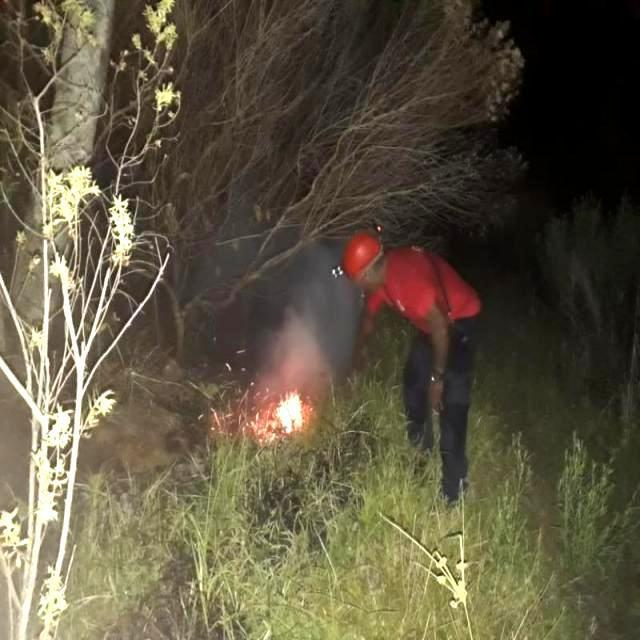Fire: (262, 384, 318, 444)
Smoke: (255, 272, 343, 414)
